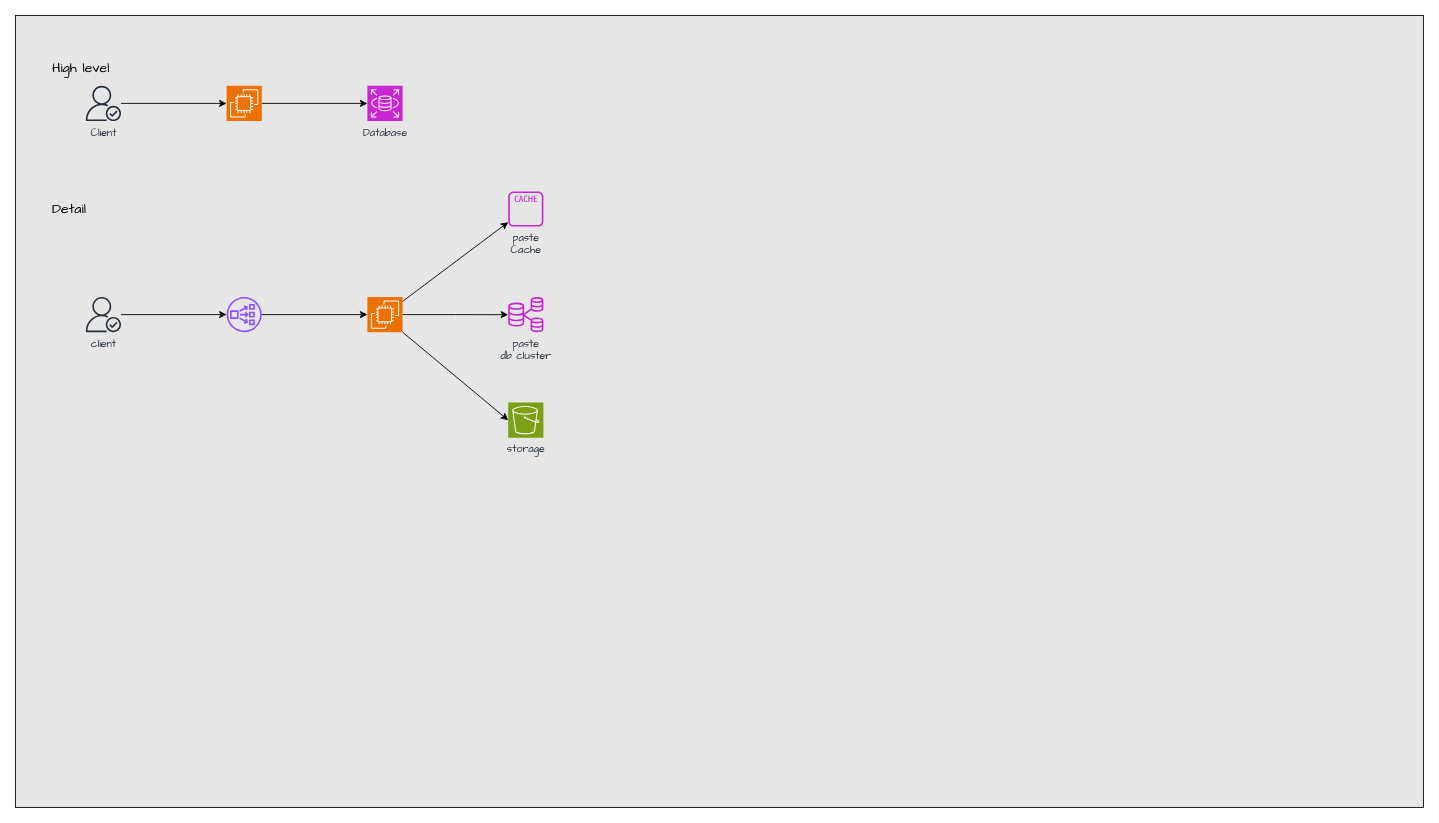
This 1439x823 diagram has some shape labels left out. Here are the shapes that lost their labels. From the top down, the centre of each, then its label:
the point at 244,103: App Server
the point at 243,314: load balancer
the point at 385,314: API Server authentication rate limit
